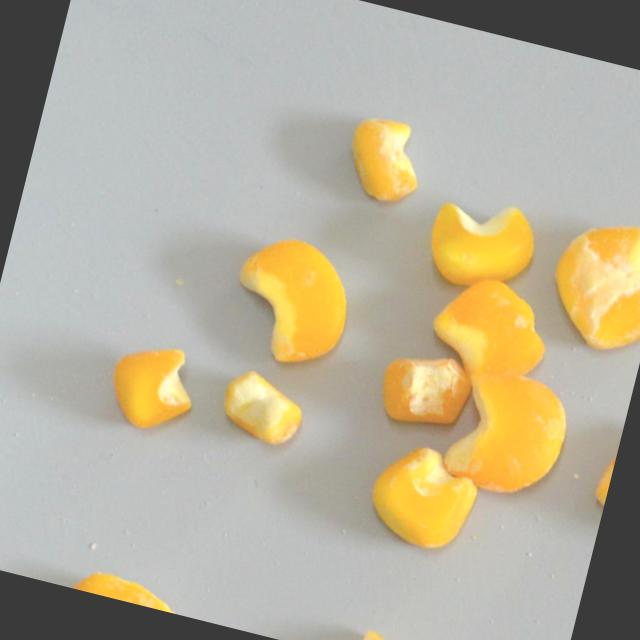no_canjicado: (417, 186, 545, 302), (99, 333, 204, 440), (305, 614, 417, 640)
pelicula: (218, 225, 361, 376), (439, 362, 576, 506), (422, 266, 558, 389), (536, 206, 640, 360), (361, 434, 485, 557), (372, 342, 476, 434), (338, 109, 430, 210), (213, 365, 308, 449), (64, 563, 183, 614), (586, 410, 627, 527)
